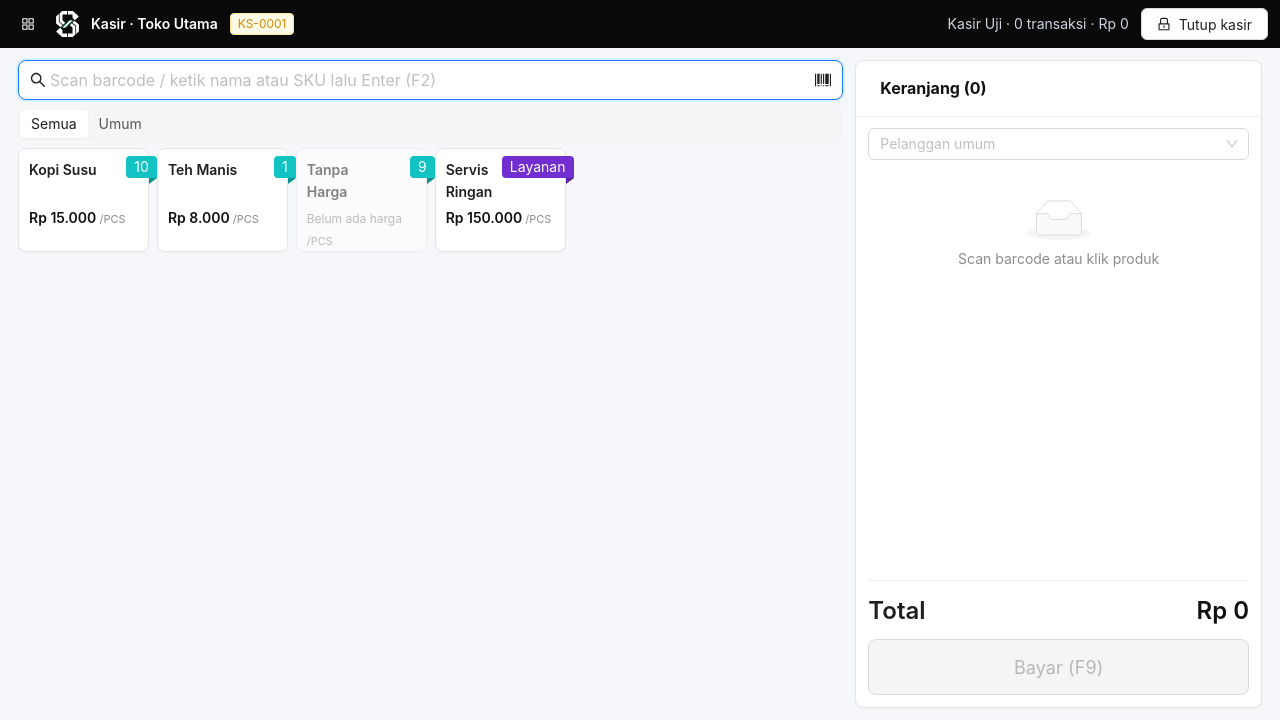
it: Kasir (Register) › promo dari server tampil di keranjang dan memotong total; pesanan membawa potongan itu
Later steps or results of the test are not shown.
What coordinates should you click on to do the following:
click the text "Kopi Susu"
I would click on:
 (63, 170)
Its box is x1=29 y1=161 x2=97 y2=178.
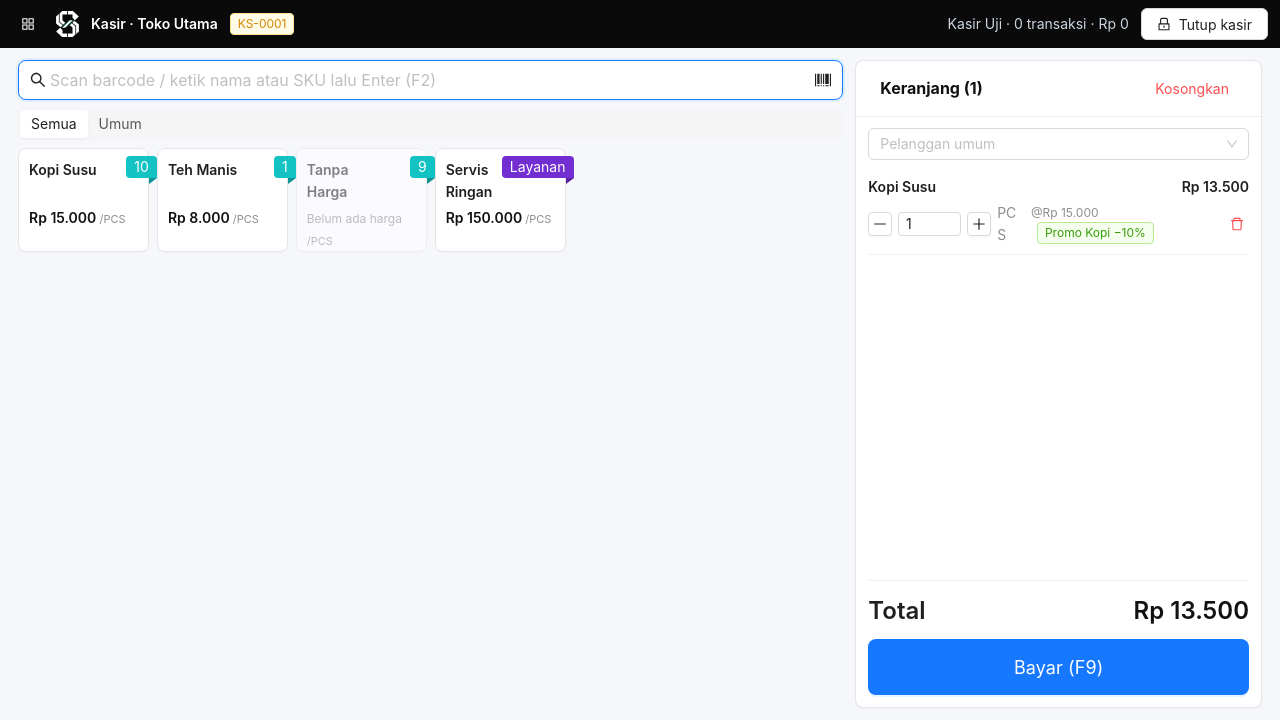
Expected: the text "Promo Kopi −10%" is shown, x1=1037 y1=222 x2=1154 y2=244
Expected: the text "Rp 13.500" is shown, x1=1182 y1=178 x2=1249 y2=195
